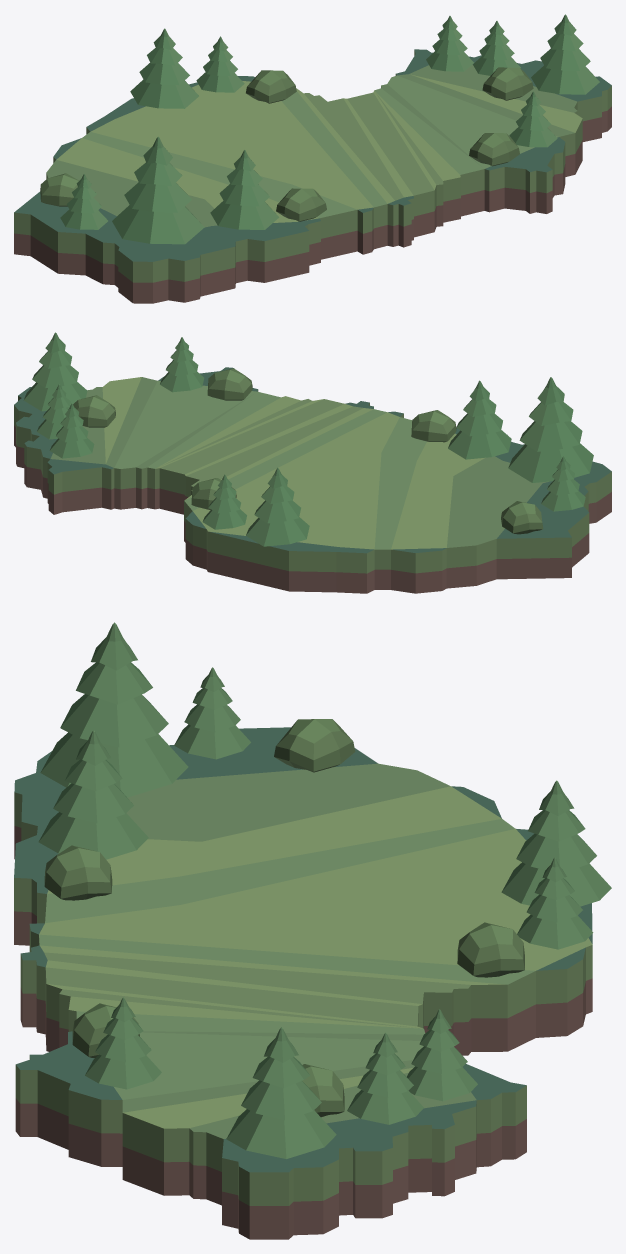
The model's file is cherskii.gltf.
The picture shows the model from 3 angles, top to bottom: view 1: azimuth 30°, elevation 25°; view 2: azimuth 150°, elevation 25°; view 3: azimuth 270°, elevation 25°; orthographic projection. The views are drawn at different scales.
Visible parts, largest first — view 1: черский; view 2: черский; view 3: черский.
Part boxes in pixels (x1,y1,x2,y2): черский: [14, 14, 611, 303]; черский: [14, 332, 611, 593]; черский: [14, 622, 611, 1239].
Bounding box in the file's own units: 2.26 × 0.5325 × 1.26.
